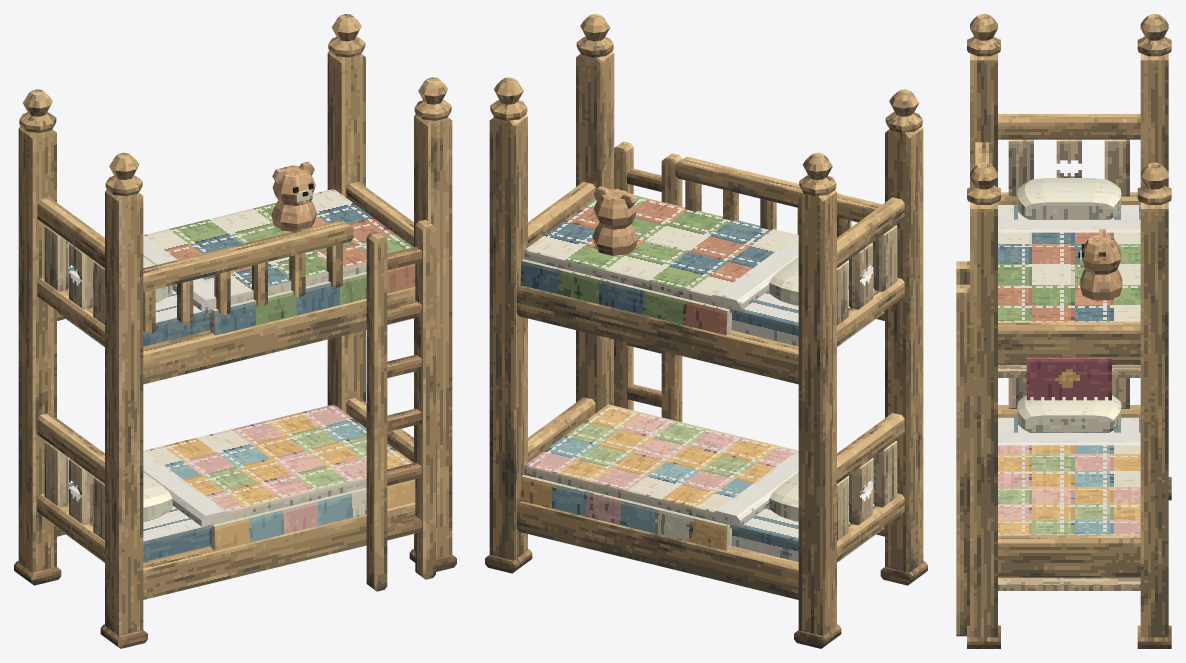
File: bunk_bed.glb
3 views of the same model, side by side, from view 1: azimuth 30°, elevation 25°; view 2: azimuth 150°, elevation 25°; view 3: azimuth 270°, elevation 25° (orthographic).
Parts seen in each view (by area): view 1: post1, quilt, post, post3, quilt1, rail1, rail3, post2, ladder, ladder1, guard, quiltdrop1 (+29 smaller); view 2: quilt, post, post2, quilt1, post1, rail2, rail, post3, quiltdrop, quiltdrop2, guard, mattress1 (+25 smaller); view 3: quilt, post2, post3, quilt1, foot, foot1, ladder1, pillow1, head3, pennant, pillow, post (+24 smaller).
Boxes of the visible parts, x1=… form: post1: x1=105, y1=190, x2=143, y2=635; quilt: x1=144, y1=404, x2=413, y2=524; post: x1=18, y1=126, x2=56, y2=572; post3: x1=414, y1=114, x2=452, y2=558; quilt1: x1=144, y1=188, x2=413, y2=309; rail1: x1=143, y1=502, x2=415, y2=599; rail3: x1=143, y1=287, x2=415, y2=384; post2: x1=327, y1=51, x2=365, y2=412; ladder: x1=366, y1=231, x2=387, y2=591; ladder1: x1=415, y1=220, x2=435, y2=579; guard: x1=143, y1=220, x2=353, y2=292; quiltdrop1: x1=210, y1=479, x2=415, y2=550; quilt: x1=524, y1=404, x2=797, y2=521; post: x1=798, y1=190, x2=836, y2=635; post2: x1=489, y1=114, x2=527, y2=560; quilt1: x1=524, y1=188, x2=797, y2=309; post1: x1=885, y1=126, x2=923, y2=572; rail2: x1=516, y1=285, x2=798, y2=384; rail: x1=516, y1=501, x2=798, y2=599; post3: x1=576, y1=51, x2=614, y2=412; quiltdrop: x1=520, y1=475, x2=731, y2=550; quiltdrop2: x1=520, y1=259, x2=731, y2=335; guard: x1=675, y1=156, x2=882, y2=222; mattress1: x1=731, y1=267, x2=874, y2=346; quilt: x1=998, y1=445, x2=1140, y2=534; post2: x1=1140, y1=202, x2=1168, y2=637; post3: x1=970, y1=202, x2=997, y2=637; quilt1: x1=998, y1=232, x2=1140, y2=321; foot: x1=998, y1=534, x2=1140, y2=577; foot1: x1=998, y1=321, x2=1140, y2=364; ladder1: x1=956, y1=284, x2=969, y2=636; pillow1: x1=1017, y1=178, x2=1121, y2=219; head3: x1=998, y1=114, x2=1140, y2=139; pennant: x1=1026, y1=357, x2=1111, y2=400; pillow: x1=1017, y1=395, x2=1121, y2=432; post: x1=1140, y1=53, x2=1168, y2=186.
Bounding box in the file's own units: 2.26 × 3.09 × 1.26.
1 material, 1 textured.
